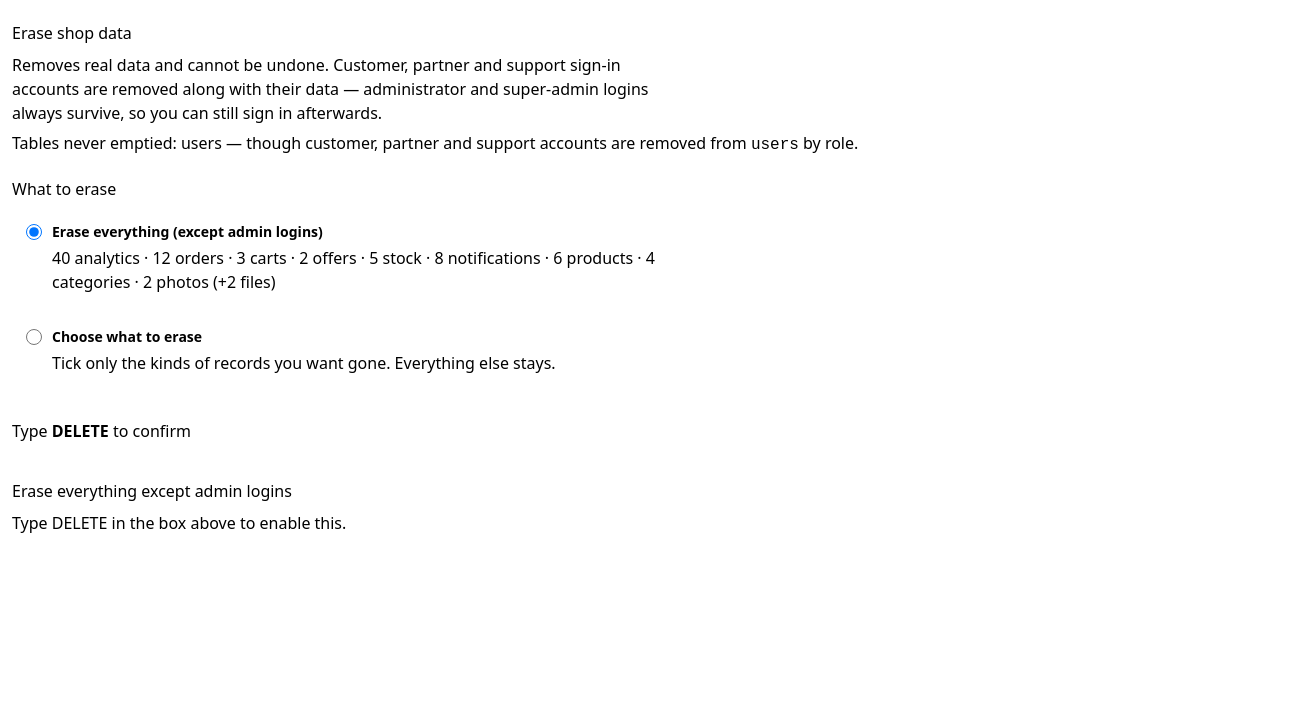
Test: DataResetPanel — choose what to erase (#71) › says "type the word" under the button once something is ticked but the word is not typed
Expected: the heading "Erase shop data" is shown, [12,22,132,44]
What coordinates should you click on to do the following:
click the radio button labelled "Choose what to erase"
I would click on:
 (34, 336)
Its box is [26,328,42,344].
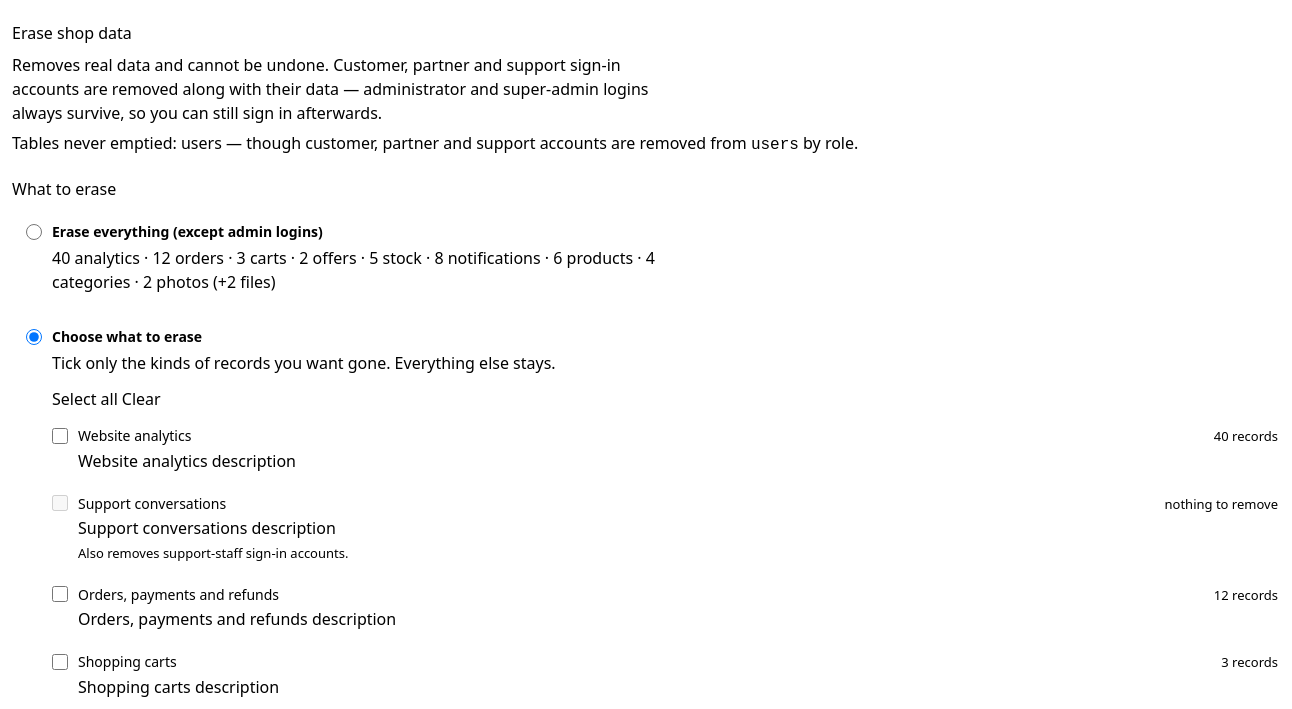
What coordinates should you click on to do the following:
click the checkbox labelled "Website analytics 40 records"
I would click on:
 (60, 436)
Its box is [52,428,68,444].
(page scrolled)
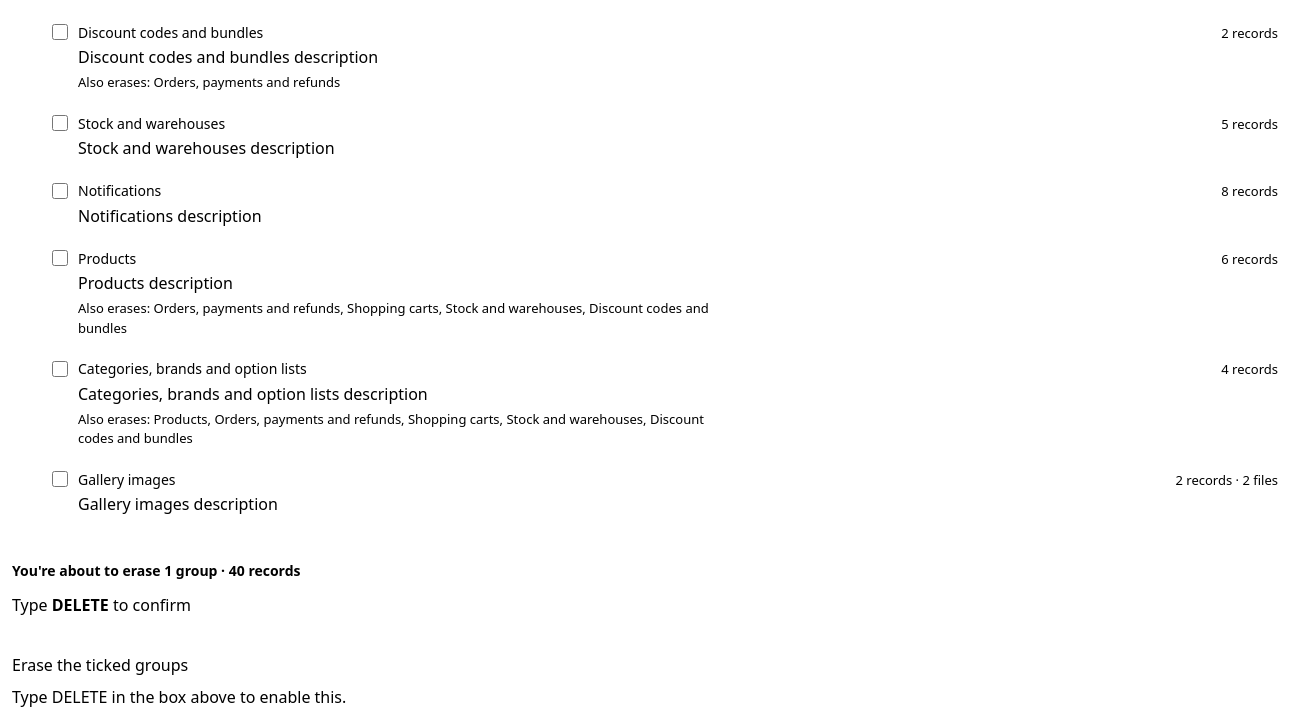
Expected: the button "Erase the ticked groups" is disabled, [12,653,188,677]
Result: the text "Type DELETE in the box above to enable this." is shown at [12,686,346,708]
